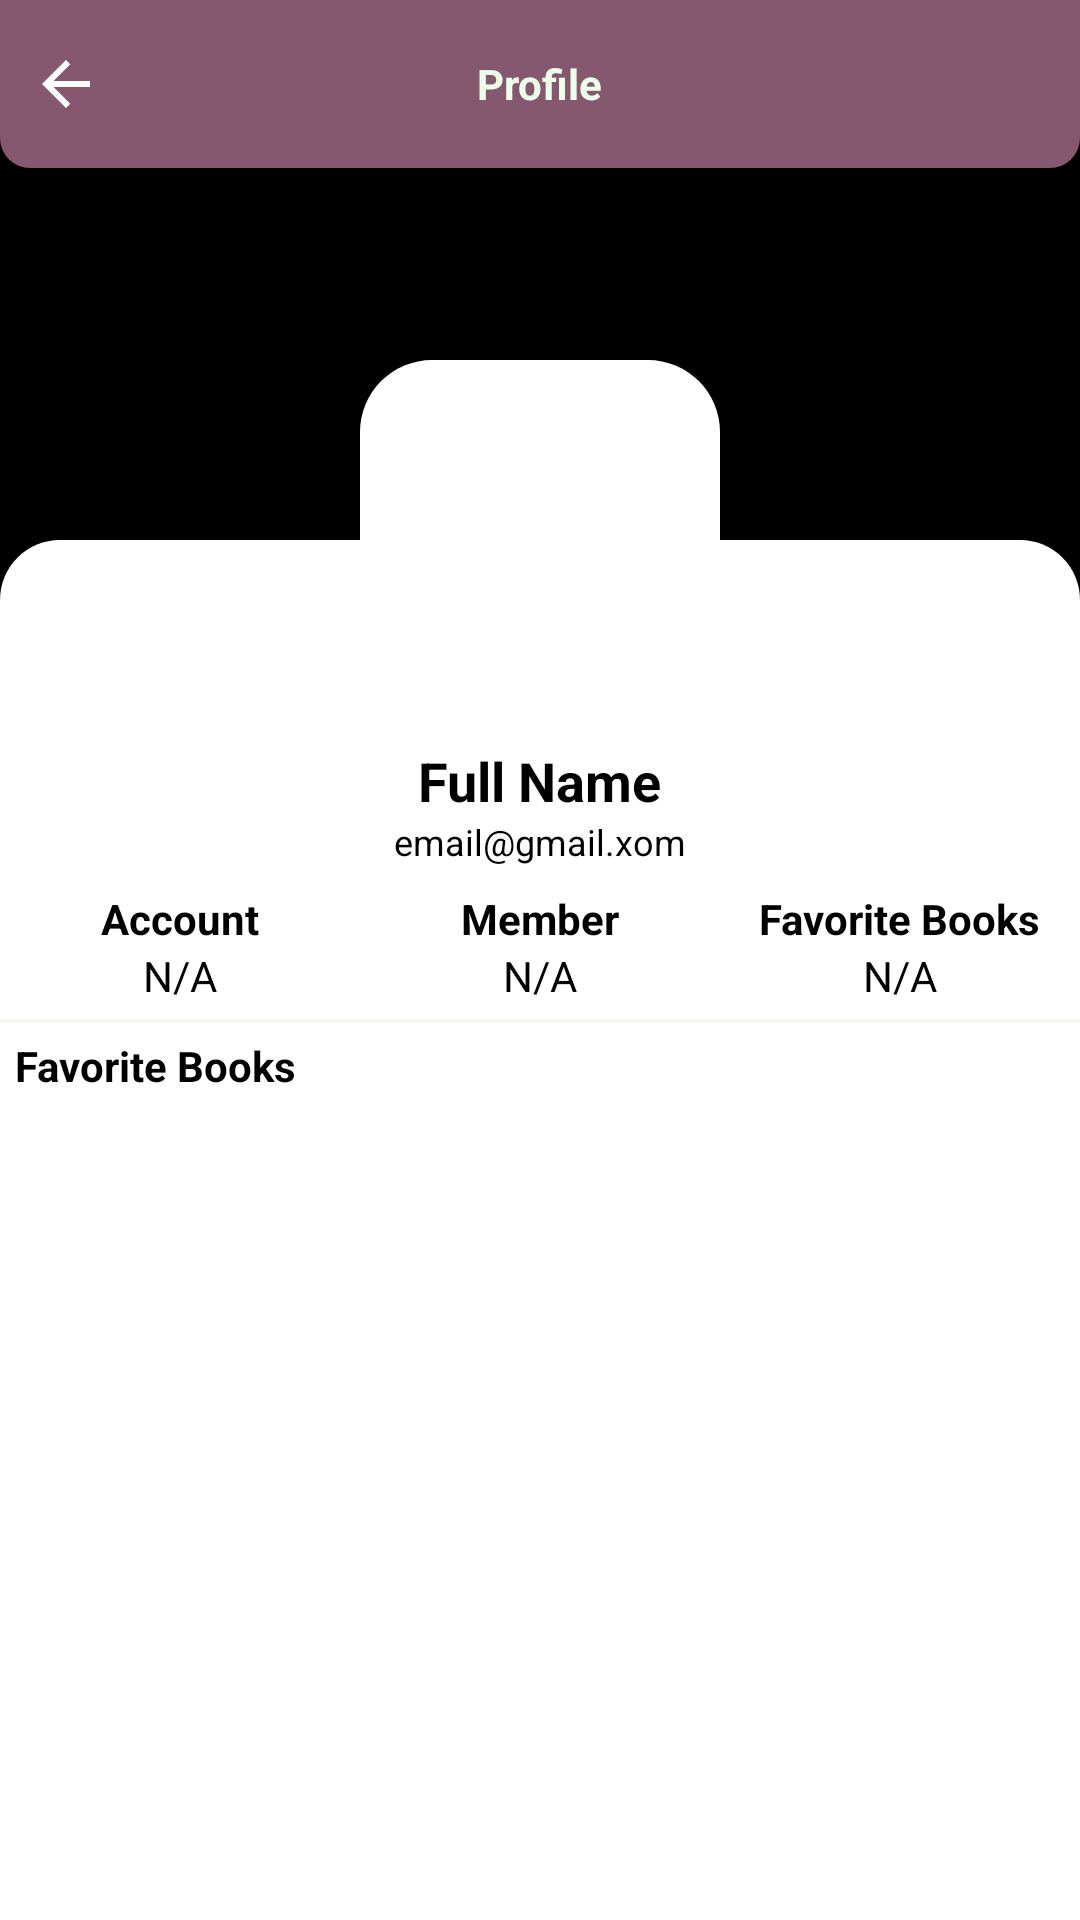

Named icons in this screenshot (1080 × 1920) and their centers, [x,y]:
arrowback: [66,84]
